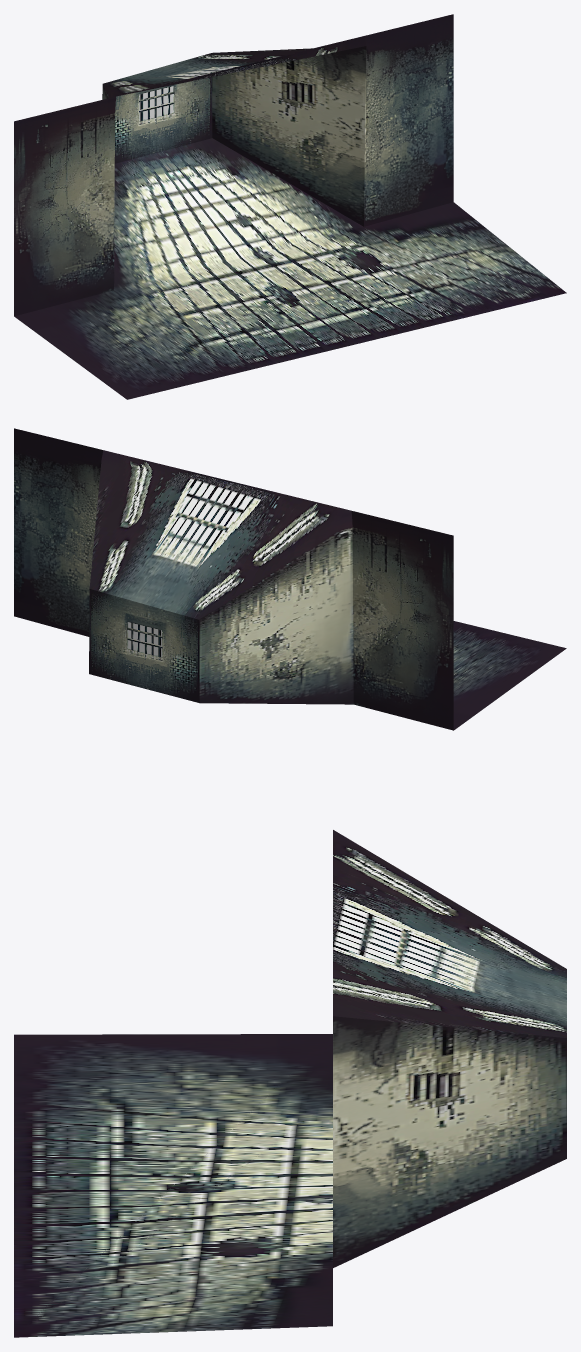
File: background.glb
3 renders of one model, top to bottom at view 1: azimuth 30°, elevation 25°; view 2: azimuth 150°, elevation 25°; view 3: azimuth 270°, elevation 25°, orthographic. The views are drawn at different scales.
Parts seen in each view (by area): view 1: Plane; view 2: Plane; view 3: Plane.
Part boxes in pixels (box(x1,y1,x2,y2)): Plane: box(14, 14, 566, 399); Plane: box(14, 428, 566, 730); Plane: box(14, 830, 566, 1337).
Size of the model in its own units: 4 by 1.7 by 3.09.
1 material, 1 textured.
